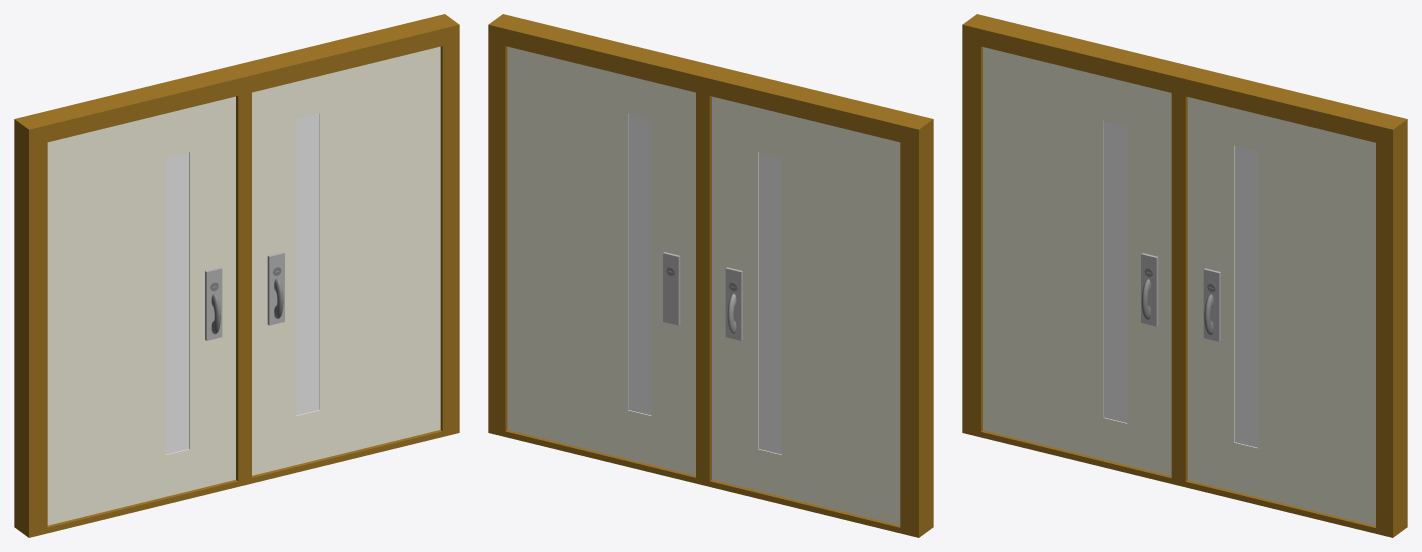
File: portesgymes.fbx
3 views of the same model, side by side, from view 1: azimuth 30°, elevation 25°; view 2: azimuth 150°, elevation 25°; view 3: azimuth 330°, elevation 25° (orthographic).
Visible parts, largest first — view 1: Porte_Droite, Porte_Gauche1, Cadre_Porte, Porte_Fenetre_Droite, Porte_Fenetre_Gauche, Poigne_Base_Droite, Poigne_Base_Gauche; view 2: Porte_Droite, Porte_Gauche1, Cadre_Porte, Porte_Fenetre_Droite, Porte_Fenetre_Gauche, Poigne_Base_Droite, Poigne_Base_Gauche; view 3: Porte_Droite, Porte_Gauche1, Cadre_Porte, Porte_Fenetre_Droite, Porte_Fenetre_Gauche, Poigne_Base_Droite, Poigne_Base_Gauche.
Part boxes in pixels (<box>): Porte_Droite: <box>252,46,440,475</box>; Porte_Gauche1: <box>47,96,235,525</box>; Cadre_Porte: <box>14,14,459,537</box>; Porte_Fenetre_Droite: <box>296,113,319,415</box>; Porte_Fenetre_Gauche: <box>166,152,188,454</box>; Poigne_Base_Droite: <box>267,252,284,325</box>; Poigne_Base_Gauche: <box>205,267,222,340</box>; Porte_Droite: <box>507,46,695,475</box>; Porte_Gauche1: <box>712,96,900,525</box>; Cadre_Porte: <box>488,14,933,537</box>; Porte_Fenetre_Droite: <box>628,113,651,415</box>; Porte_Fenetre_Gauche: <box>759,152,781,454</box>; Poigne_Base_Droite: <box>663,252,680,325</box>; Poigne_Base_Gauche: <box>725,267,742,340</box>; Porte_Droite: <box>1187,97,1375,525</box>; Porte_Gauche1: <box>983,47,1171,475</box>; Cadre_Porte: <box>962,14,1407,537</box>; Porte_Fenetre_Droite: <box>1234,145,1257,447</box>; Porte_Fenetre_Gauche: <box>1104,121,1127,422</box>; Poigne_Base_Droite: <box>1203,268,1220,341</box>; Poigne_Base_Gauche: <box>1141,253,1158,326</box>.
Size of the model in its own units: 14.11 by 12.78 by 1.38.
